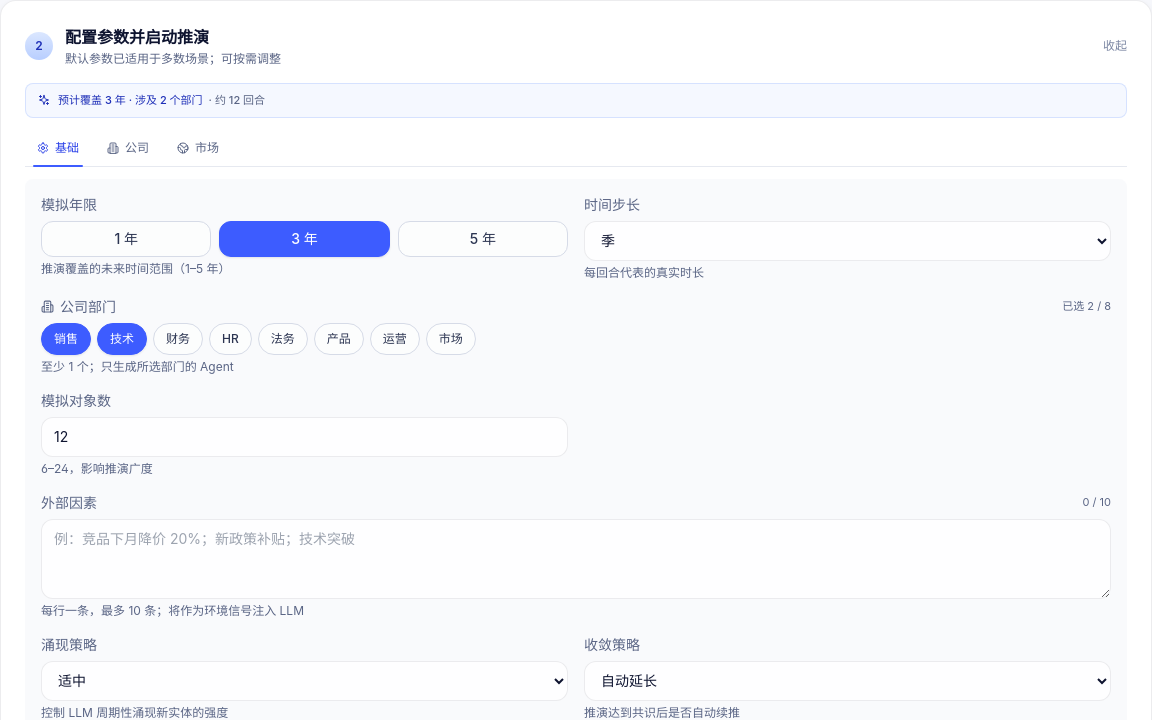
Test: ConfigCard 公司 tab - 公司名称 › 已填的 company_name 显示在 input 中
This screenshot has width=1152, height=720.
Click the button "公司" at [128, 148], box [95,130,161,166]
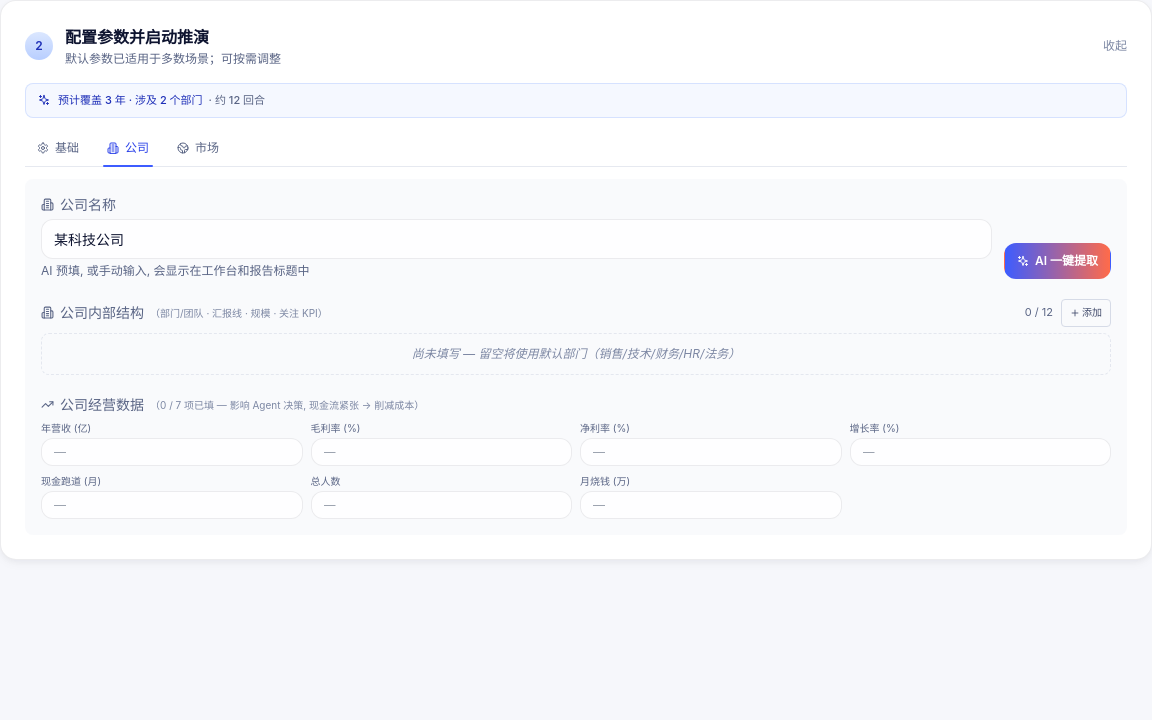
Expected: the field with placeholder "例: 湖北某科技股份公司" holds "某科技公司", [41,218,992,258]
